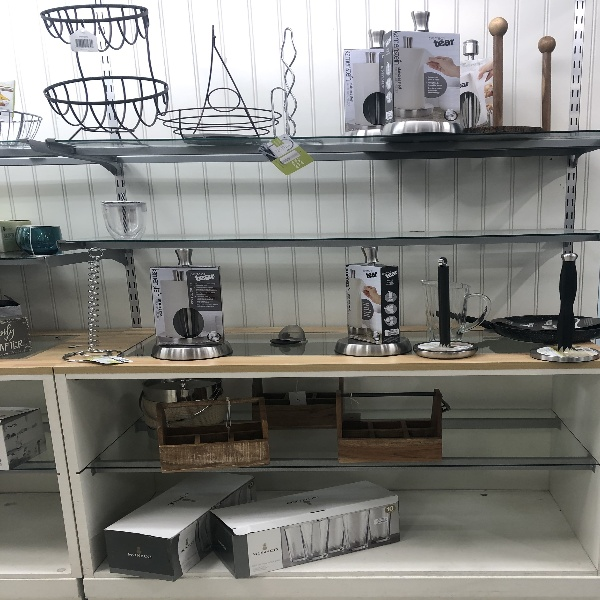void: (164, 155, 595, 235), (398, 468, 600, 563), (448, 372, 599, 454), (1, 474, 58, 570)
